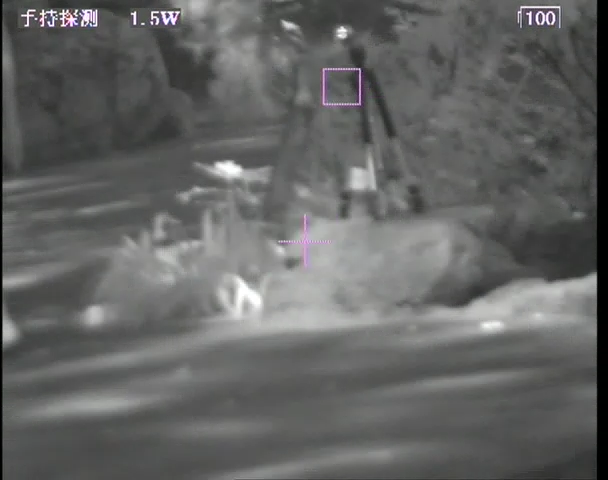my: (332, 23, 351, 42)
